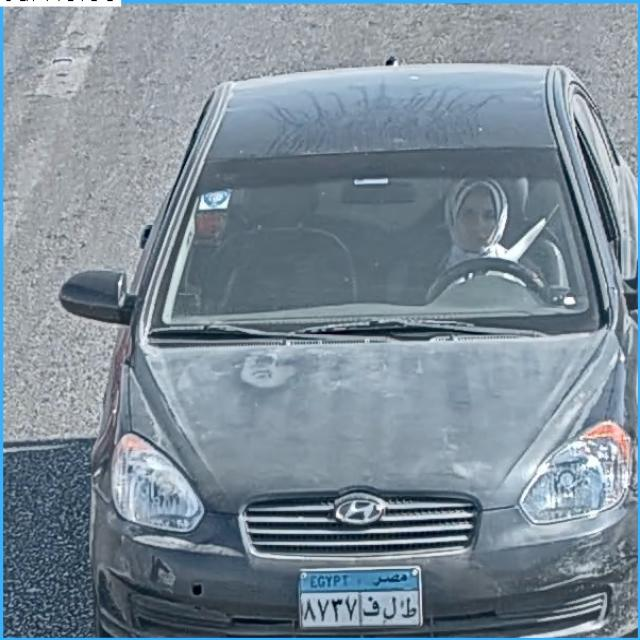windshield: (145, 161, 598, 320)
